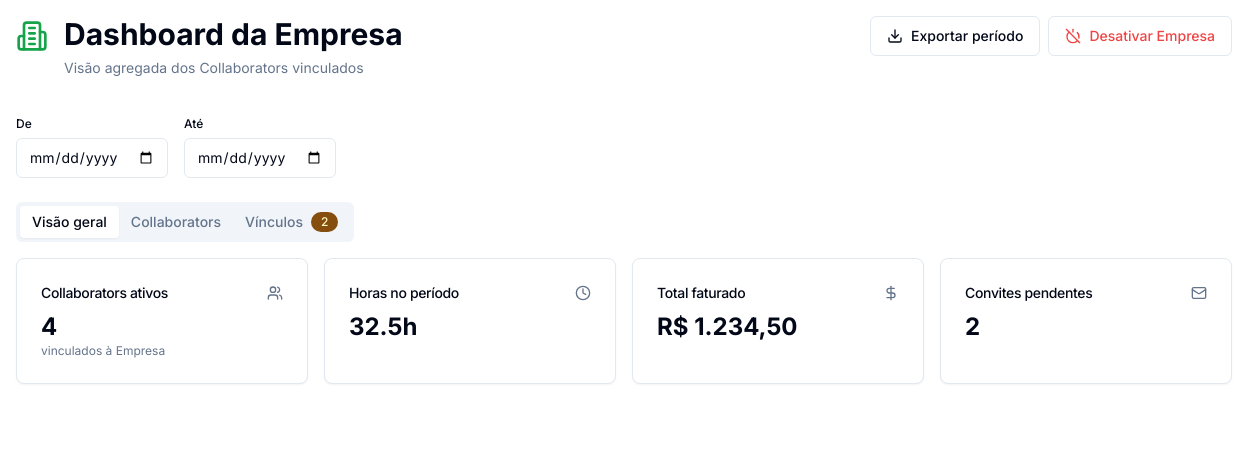
Scenario: CompanyAdminDashboardPage › renders the Collaborators table with name/email, vínculo, horas, projetos and faturado
The image size is (1249, 462).
Click the tab "Collaborators".
click(176, 222)  # box [119,206,233,238]
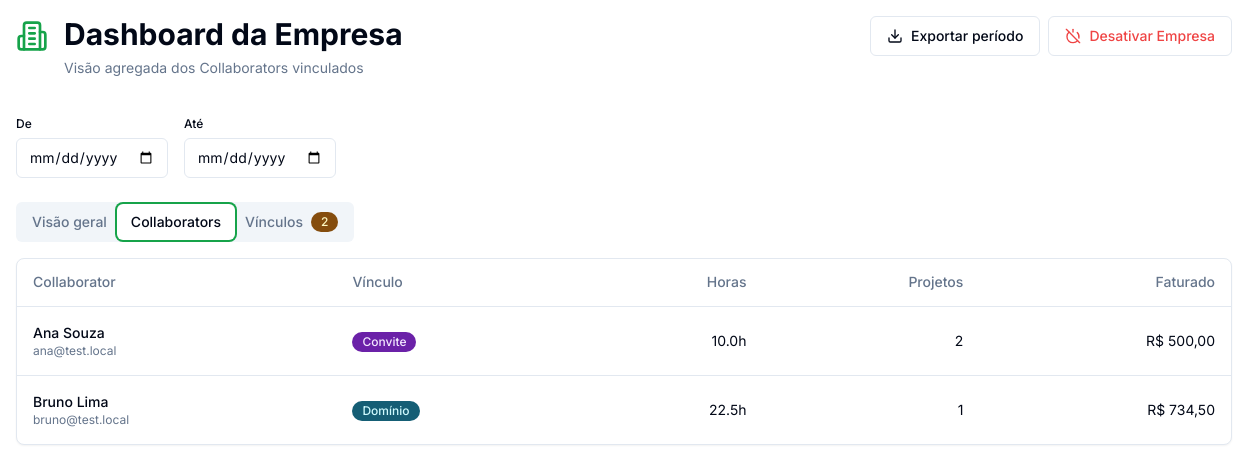
Expected: the text "Ana Souza" is shown, [33,324,105,341]
Expected: the text "ana@test.local" is shown, [33,343,116,358]
Expected: the text "10.0h" is shown, [584,306,762,376]
